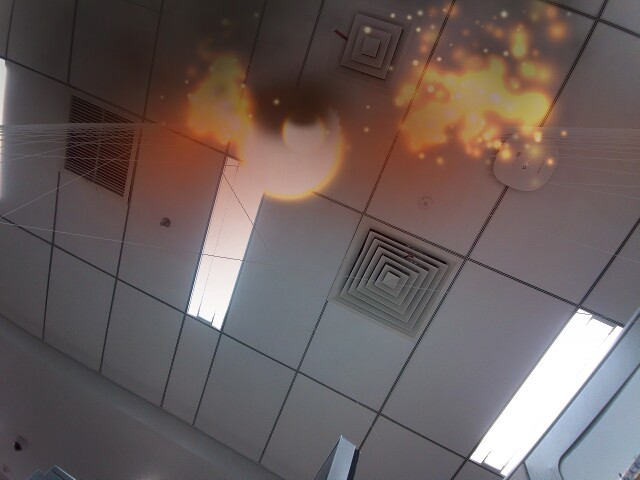fire: (235, 88, 351, 201), (282, 110, 329, 158)
